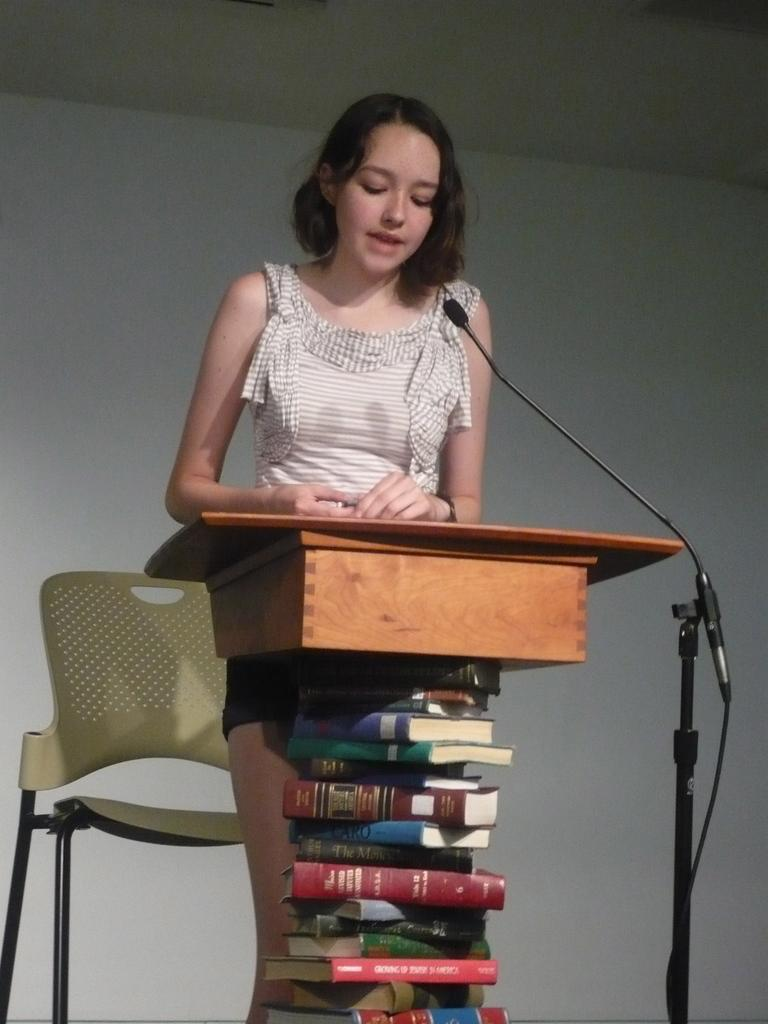Chair: (0, 569, 246, 1022)
